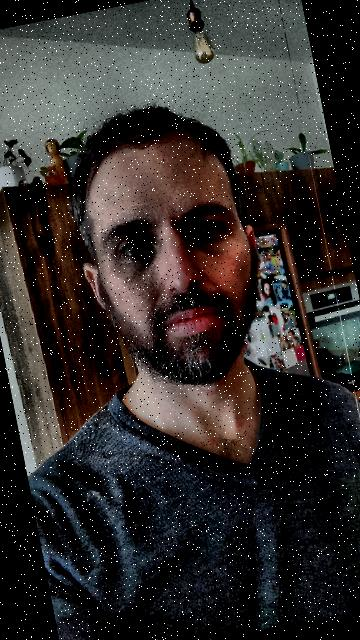neutral: (44, 77, 290, 418)
